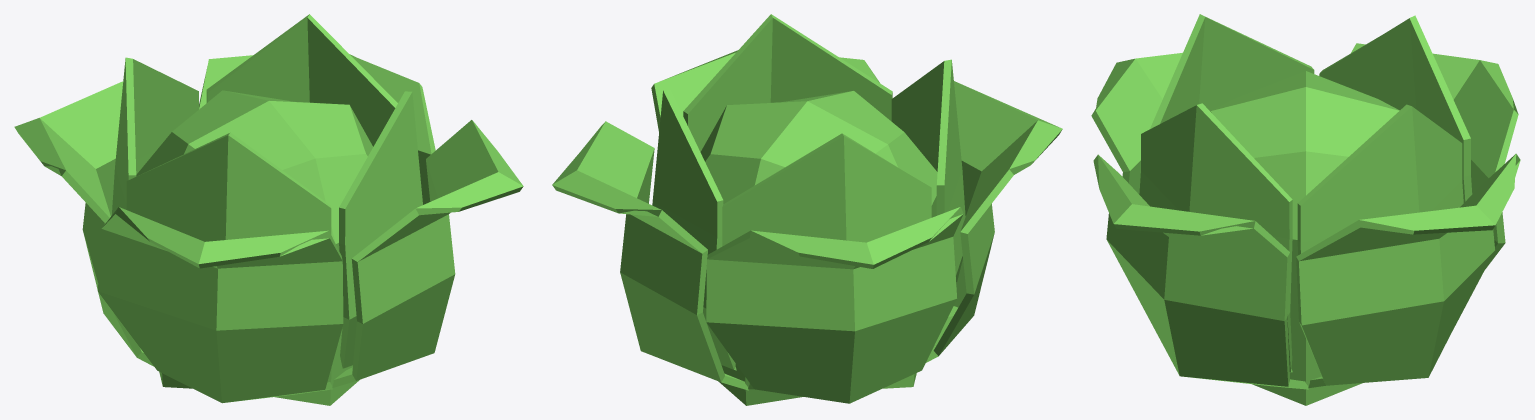
The model's file is lettuce whole.fbx.
The picture shows the model from 3 angles, left to right: view 1: azimuth 30°, elevation 25°; view 2: azimuth 150°, elevation 25°; view 3: azimuth 270°, elevation 25°; orthographic projection. The views are drawn at different scales.
Visible parts, largest first — view 1: Lettuce_Whole; view 2: Lettuce_Whole; view 3: Lettuce_Whole.
Boxes of the visible parts, bbox=[...] form: Lettuce_Whole: bbox=[14, 14, 523, 405]; Lettuce_Whole: bbox=[552, 14, 1062, 405]; Lettuce_Whole: bbox=[1091, 14, 1520, 405].
Size of the model in its own units: 40.37 by 33.25 by 40.37.
